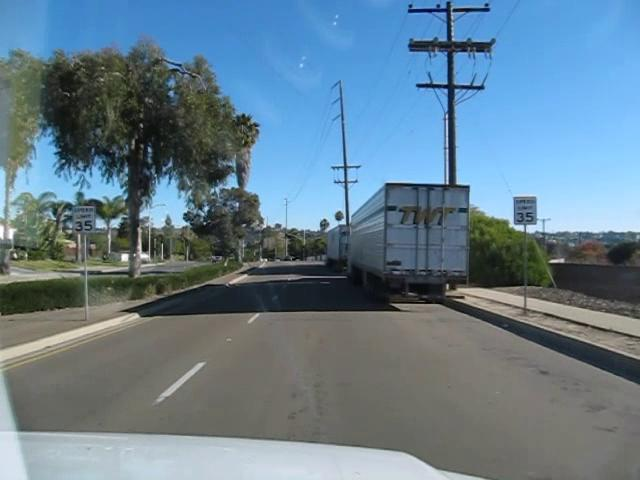speedLimit35: (512, 196, 537, 224), (71, 205, 95, 233)
